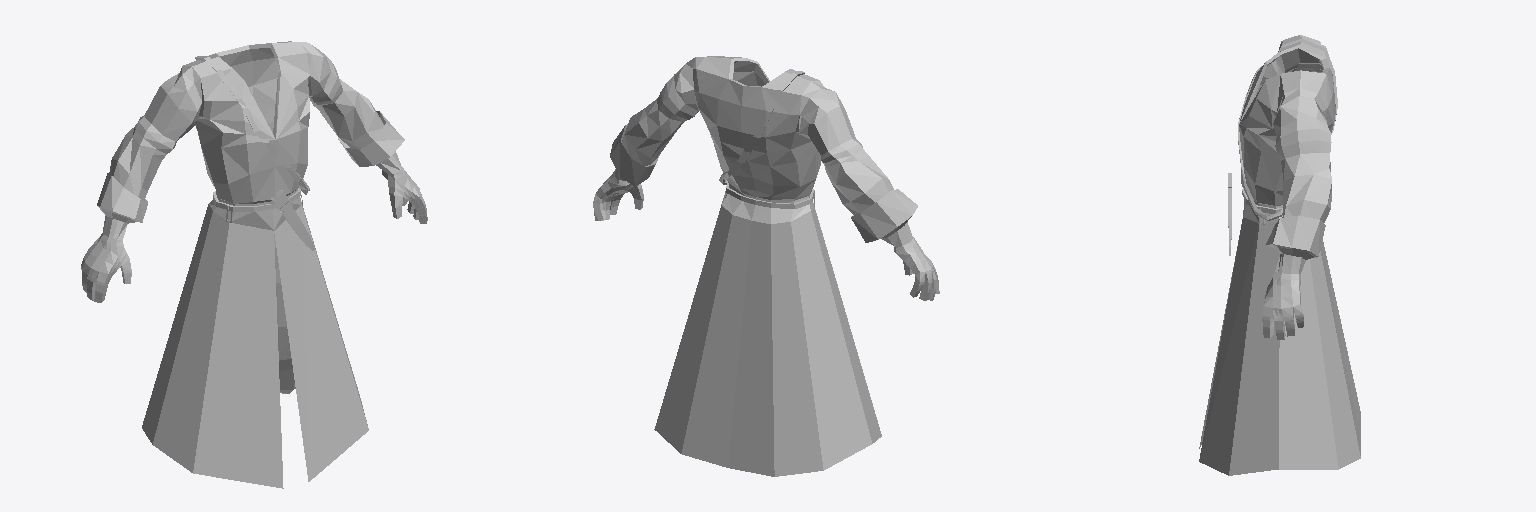
The model's file is KazakLowPoly.obj.
3 renders of one model, left to right at view 1: azimuth 30°, elevation 25°; view 2: azimuth 150°, elevation 25°; view 3: azimuth 270°, elevation 25°, orthographic.
Visible parts, largest first — view 1: Cherkescka.001_Mesh.004; view 2: Cherkescka.001_Mesh.004; view 3: Cherkescka.001_Mesh.004.
Boxes of the visible parts, box(x1,y1,x2,y2) form: Cherkescka.001_Mesh.004: box(81, 41, 427, 488); Cherkescka.001_Mesh.004: box(593, 56, 939, 476); Cherkescka.001_Mesh.004: box(1199, 35, 1360, 475).
Size of the model in its own units: 3.5 by 3.99 by 1.47.